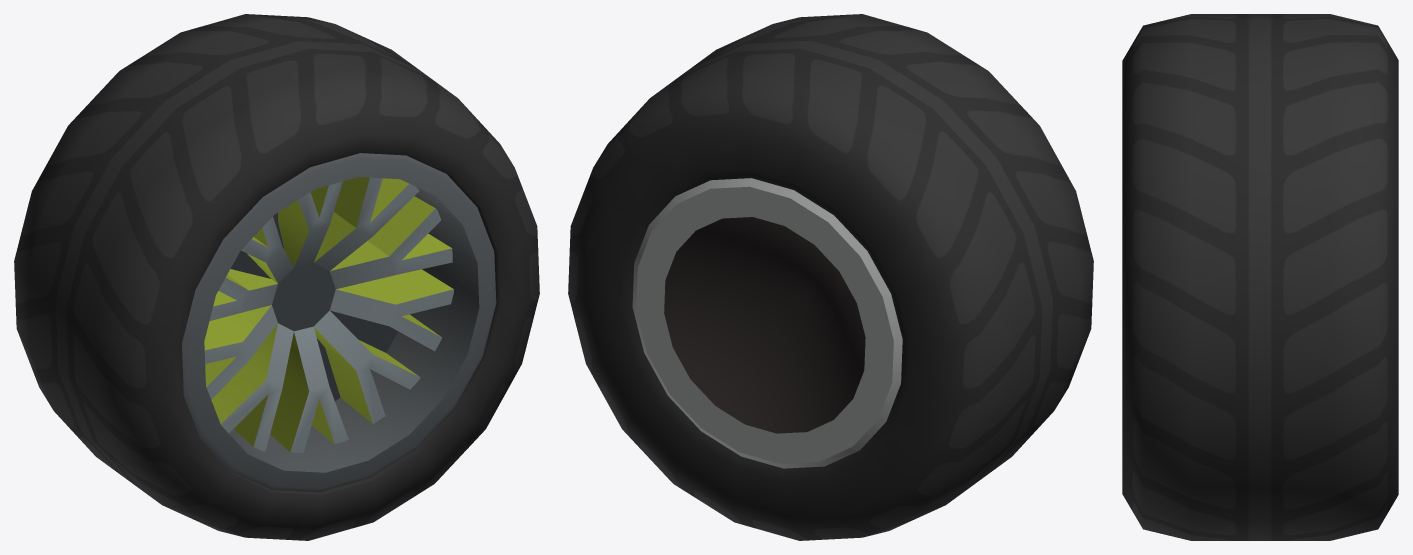
Rendered from Wheel_15.fbx.
3 views of the same model, side by side, from view 1: azimuth 30°, elevation 25°; view 2: azimuth 150°, elevation 25°; view 3: azimuth 270°, elevation 25° (orthographic). The views are drawn at different scales.
Parts seen in each view (by area): view 1: Wheel_15; view 2: Wheel_15; view 3: Wheel_15.
Part boxes in pixels (x1,y1,x2,y2): Wheel_15: (14, 14, 539, 540); Wheel_15: (568, 14, 1093, 540); Wheel_15: (1122, 14, 1398, 540).
Bounding box in the file's own units: 95 × 50 × 95.
